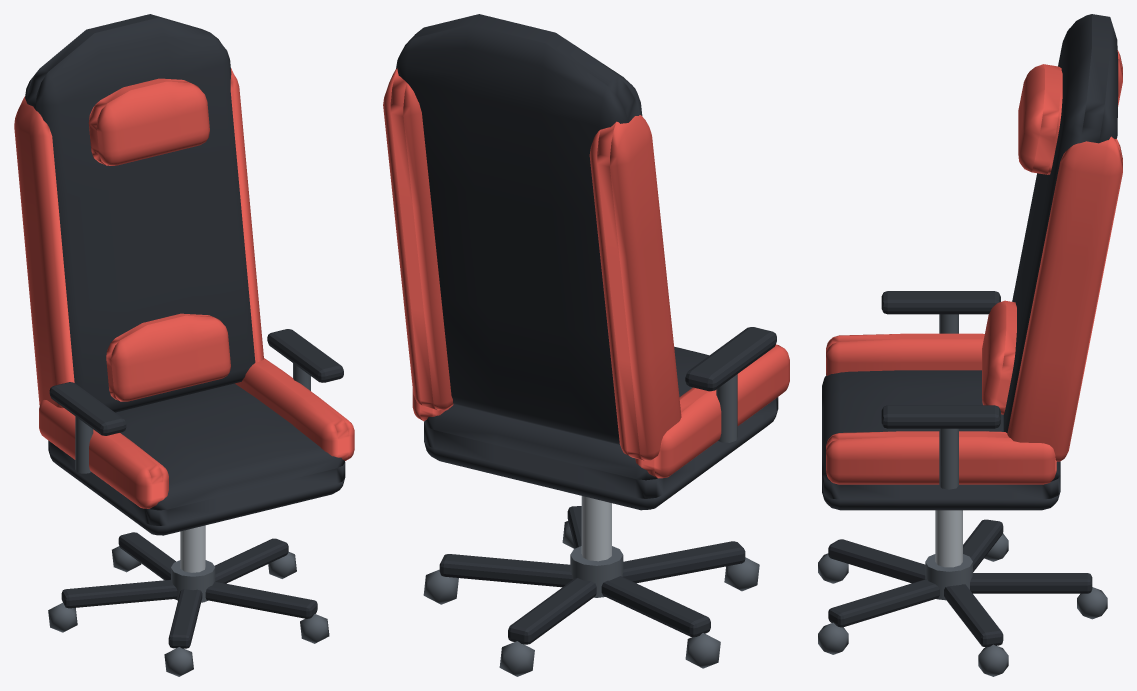
Rendered from cadeira-gamer.glb.
3 renders of one model, left to right at view 1: azimuth 30°, elevation 25°; view 2: azimuth 150°, elevation 25°; view 3: azimuth 270°, elevation 25°, orthographic. The views are drawn at different scales.
Visible parts, largest first — view 1: cadeira-gamer; view 2: cadeira-gamer; view 3: cadeira-gamer.
Boxes of the visible parts, x1,y1,x2,y2 form: cadeira-gamer: (14,14,354,676); cadeira-gamer: (383,14,789,676); cadeira-gamer: (818,14,1122,676).
Size of the model in its own units: 0.7653 by 1.63 by 0.7663.
